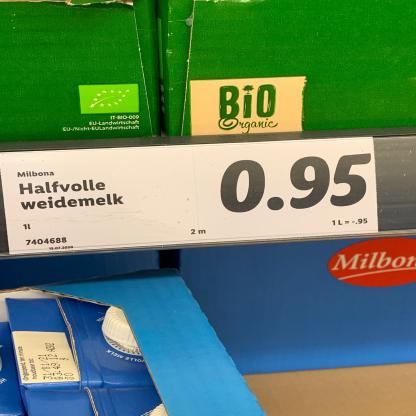prtg: (1, 137, 380, 256)
